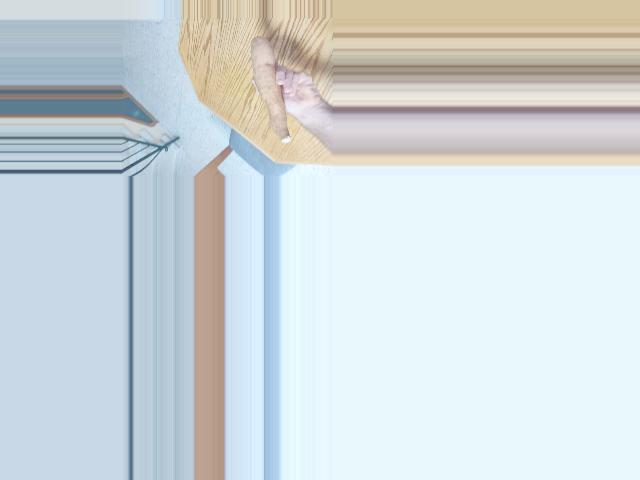sweet_potato: (244, 41, 292, 140)
